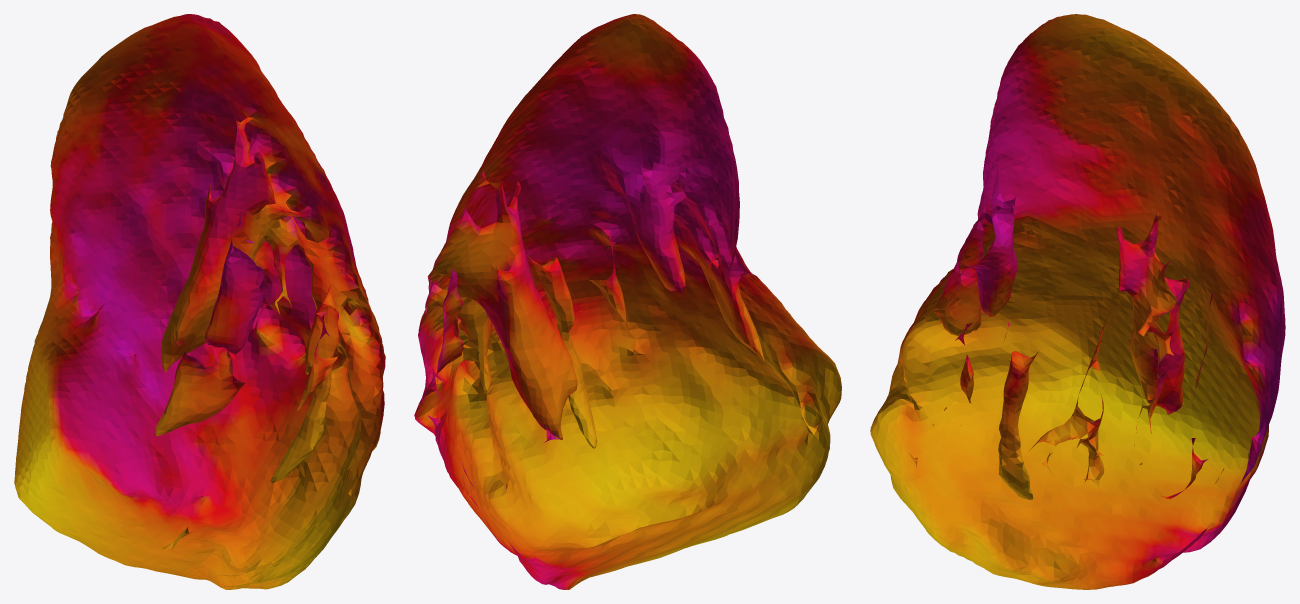
File: 83_SQZData_2-processed.glb
The picture shows the model from 3 angles, left to right: view 1: azimuth 30°, elevation 25°; view 2: azimuth 150°, elevation 25°; view 3: azimuth 270°, elevation 25°; orthographic projection.
Parts seen in each view (by area): view 1: Renderer Node; view 2: Renderer Node; view 3: Renderer Node.
Boxes of the visible parts, bbox=[...] form: Renderer Node: bbox=[14, 14, 385, 589]; Renderer Node: bbox=[414, 14, 841, 589]; Renderer Node: bbox=[870, 14, 1285, 589].
Bounding box in the file's own units: 45.69 × 68.97 × 47.68.
